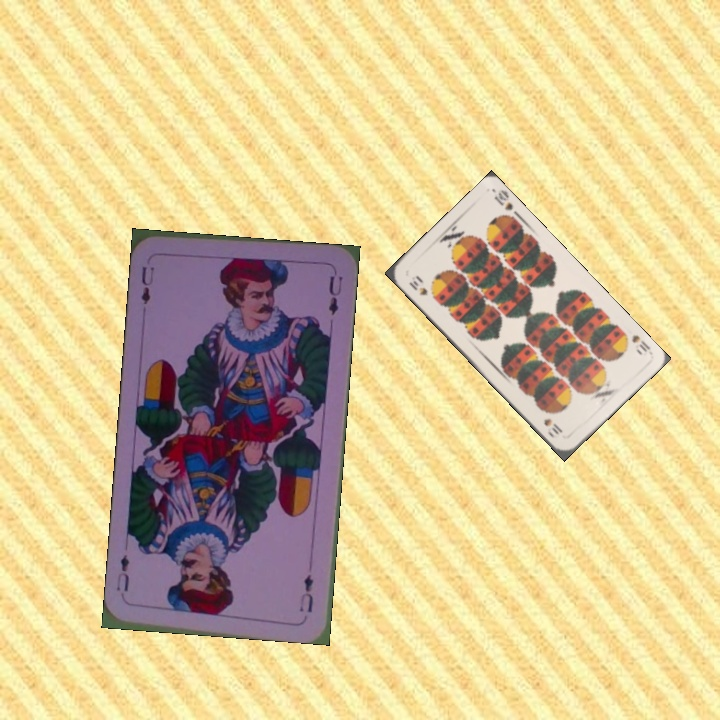EU: (137, 262, 157, 308), (296, 570, 316, 615)
S10: (627, 331, 653, 355), (405, 276, 430, 298)
